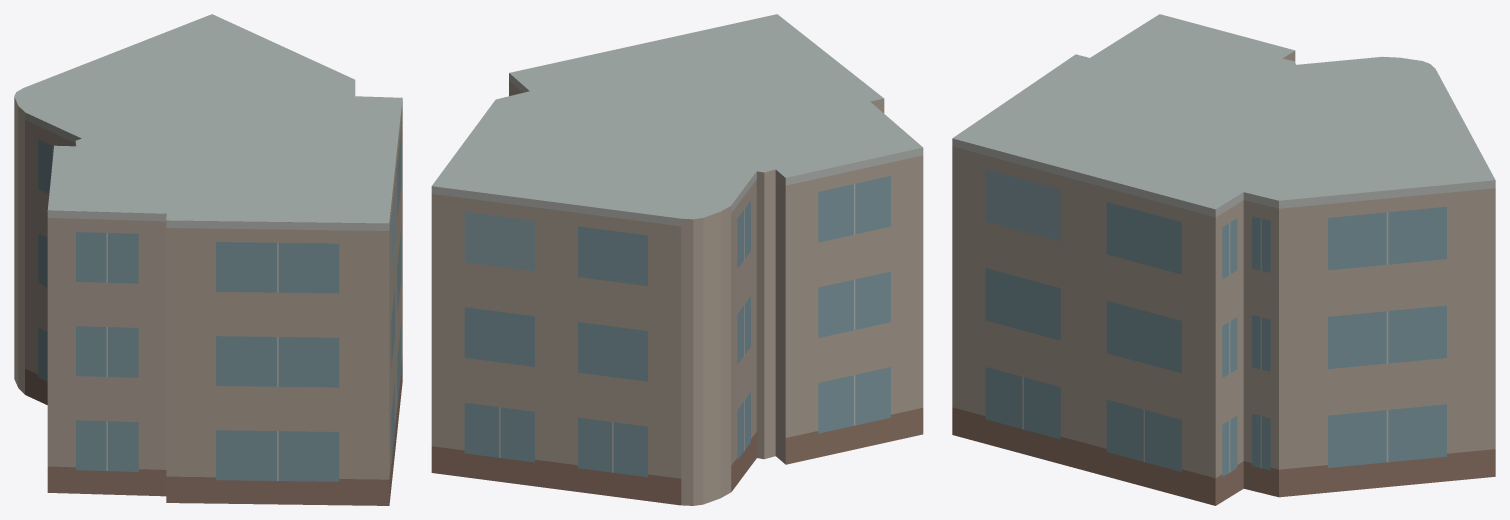
Rendered from survey-upis-32680047.glb.
3 renders of one model, left to right at view 1: azimuth 30°, elevation 25°; view 2: azimuth 150°, elevation 25°; view 3: azimuth 270°, elevation 25°, orthographic. The views are drawn at different scales.
Visible parts, largest first — view 1: survey-upis-32680047.tmp; view 2: survey-upis-32680047.tmp; view 3: survey-upis-32680047.tmp.
Part boxes in pixels (bbox=[...]): survey-upis-32680047.tmp: bbox=[14, 14, 402, 505]; survey-upis-32680047.tmp: bbox=[431, 14, 923, 505]; survey-upis-32680047.tmp: bbox=[952, 14, 1495, 505].
Bounding box in the file's own units: 12.87 × 9.1 × 15.13.
